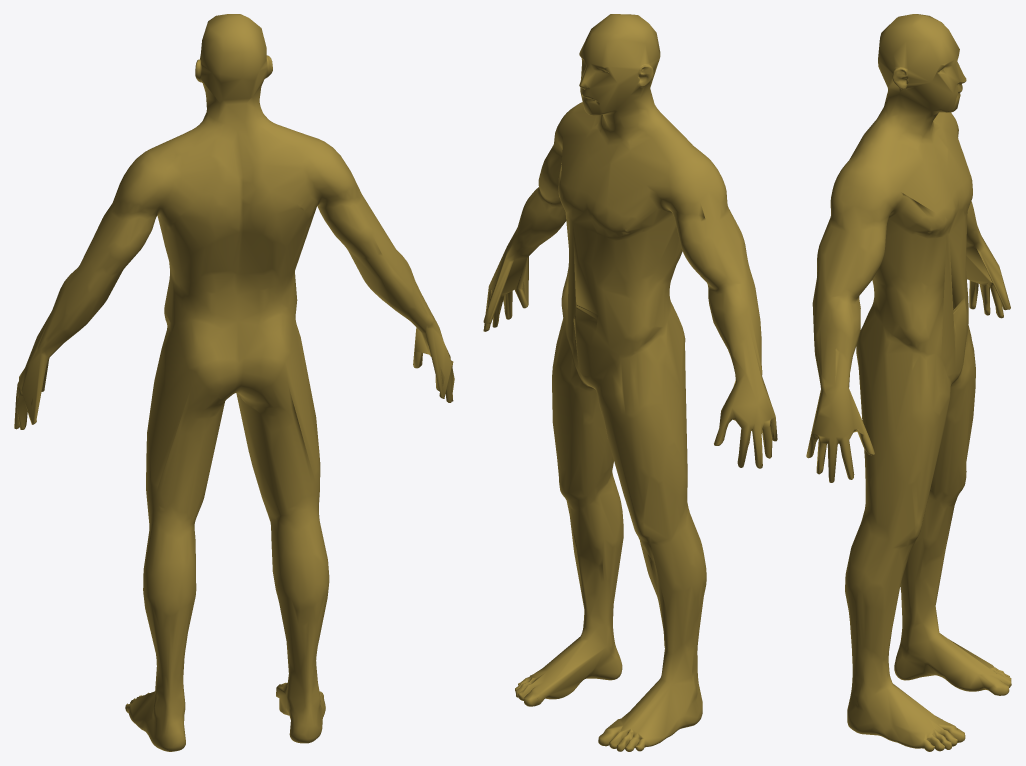
The model's file is body_triangulated.obj.
The picture shows the model from 3 angles, left to right: view 1: azimuth 30°, elevation 25°; view 2: azimuth 150°, elevation 25°; view 3: azimuth 270°, elevation 25°; orthographic projection. The views are drawn at different scales.
Parts seen in each view (by area): view 1: Group1.001; view 2: Group1.001; view 3: Group1.001.
Part boxes in pixels (x1,y1,x2,y2): Group1.001: (14,14,454,751); Group1.001: (483,14,777,751); Group1.001: (806,14,1011,751).
Size of the model in its own units: 2.41 by 4.55 by 1.22.
